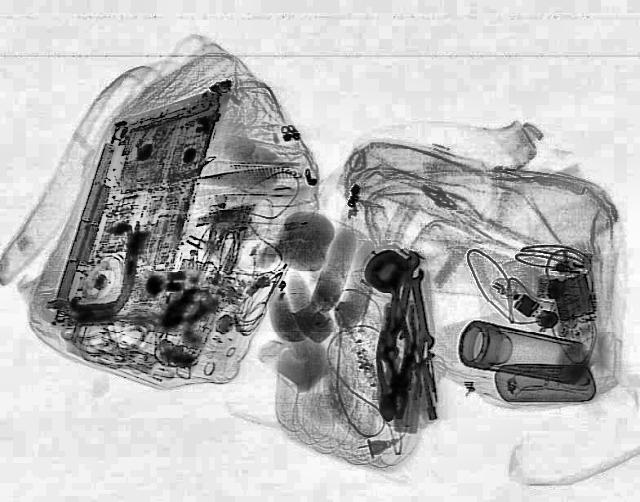Pliers: (368, 328, 414, 422), (382, 333, 416, 417)
Wrench: (402, 267, 436, 351)
